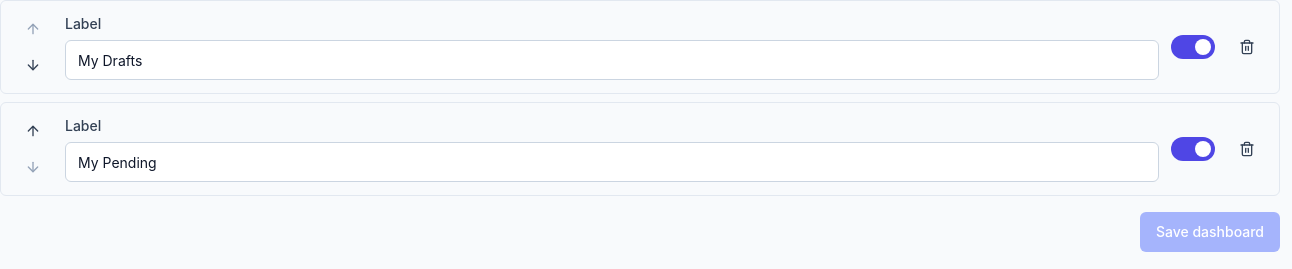
Test: WidgetsConfigEditor › disabling a widget toggle marks the draft dirty
The width and height of the screenshot is (1292, 269).
Expected: the button "Save dashboard" is disabled, [1140,212,1280,252]
Click the 1st switch named "Enabled: My Drafts": (1193, 47) [1171,35,1215,59]
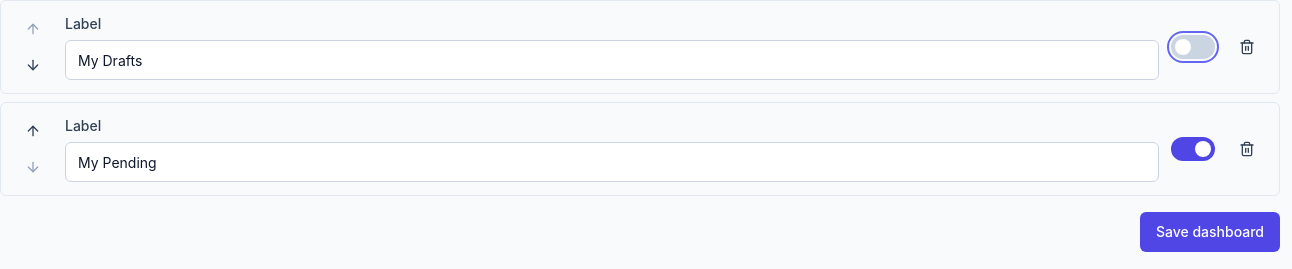
Expected: the button "Save dashboard" is enabled, [1140,212,1280,252]
